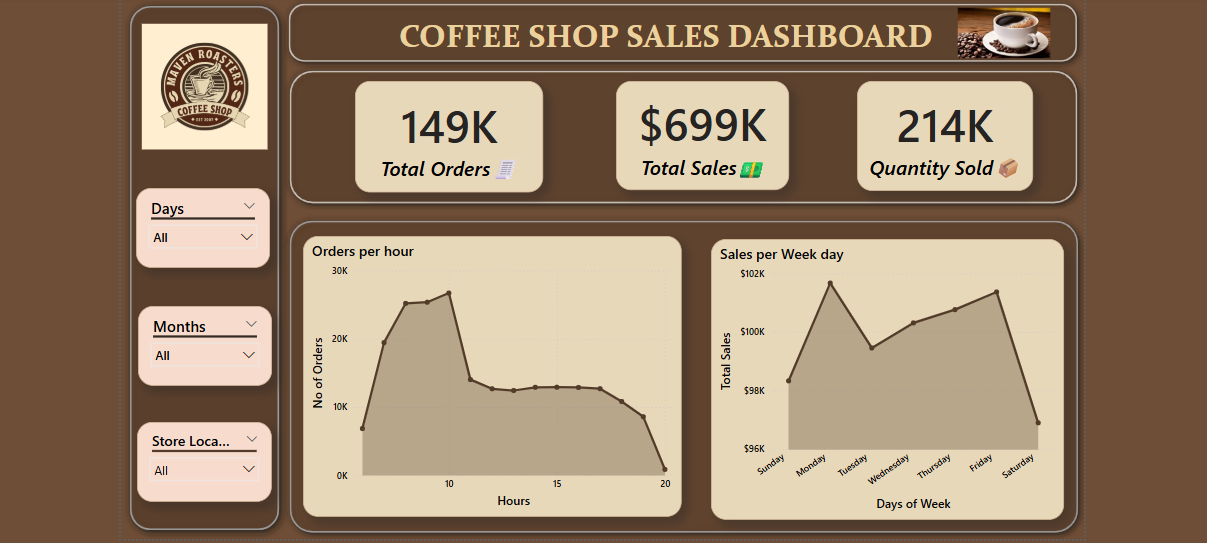

The dashboard page shown, as its layout file describes it:
{"tool":"powerbi","page":{"name":"Page 1","canvas":[1280,720],"ordinal":0},"visuals":[{"type":"shape","box":[0,0,222.4,720],"z":0},{"type":"shape","box":[214.7,288.5,1065.3,432.1],"z":1000},{"type":"shape","box":[214.7,88.9,1063.9,194.2],"z":2000},{"type":"group","id":"g1","title":"Group 1","box":[310.4,112.1,901.2,147.7],"z":3000},{"type":"card","fields":{"Values":["Sum(Transactions.transaction_qty)"]},"box":[977.8,112.1,233.8,146.2],"z":3000,"group":"g1"},{"type":"card","fields":{"Values":["Sum(Transactions.total_price)"]},"box":[657.8,112.2,229.7,144.7],"z":4000,"group":"g1"},{"type":"lineChart","title":"Sales per Week day","fields":{"Y":["Sum(Transactions.total_price)"],"Category":["Transactions.day_name"]},"box":[772.6,317.3,469.1,373.3],"z":4000},{"type":"lineChart","title":"Orders per hour","fields":{"Category":["Transactions.transaction_hour"],"Y":["Sum(Transactions.transaction_qty)"]},"box":[242.1,317.3,503.2,373.3],"z":5000},{"type":"shape","box":[213.3,0,1065,95],"z":6000},{"type":"slicer","fields":{"Values":["Transactions.store_location"]},"box":[24.2,554.8,179.4,106.3],"z":6002,"group":"g2"},{"type":"textbox","box":[252.2,20,960,52.2],"z":7000},{"type":"image","box":[1106.7,8.7,133.3,76.7],"z":8000},{"type":"group","id":"g2","title":"Group 1","box":[9.6,20.5,207.9,640],"z":8001},{"type":"slicer","fields":{"Values":["Transactions.month_name"]},"box":[25.6,400.7,178.1,106.3],"z":10000,"group":"g2"},{"type":"slicer","fields":{"Values":["Transactions.day_name"]},"box":[22.9,243.9,178.1,106.3],"z":11000,"group":"g2"},{"type":"image","box":[9.6,20.5,208.7,177.5],"z":12000,"group":"g2"},{"type":"card","fields":{"Values":["Count(Transactions.transaction_id)"]},"box":[310.4,112.2,250.3,147.6],"z":12000,"group":"g1"}]}

Visuals, with their boxes on the page's 1280x720 design canvas (x1, y1, x2, y2). These are canvas units, not pixel positions in the 1207x543 screenshot, which may show the page scaled, cropped or inside an application window:
shape: box(0, 0, 222, 720)
shape: box(215, 288, 1280, 721)
shape: box(215, 89, 1279, 283)
"Group 1" group: box(310, 112, 1212, 260)
card - Sum(Transactions.transaction_qty): box(978, 112, 1212, 258)
card - Sum(Transactions.total_price): box(658, 112, 888, 257)
"Sales per Week day" lineChart: box(773, 317, 1242, 691)
"Orders per hour" lineChart: box(242, 317, 745, 691)
shape: box(213, 0, 1278, 95)
slicer - Transactions.store_location: box(24, 555, 204, 661)
textbox: box(252, 20, 1212, 72)
image: box(1107, 9, 1240, 85)
"Group 1" group: box(10, 20, 218, 660)
slicer - Transactions.month_name: box(26, 401, 204, 507)
slicer - Transactions.day_name: box(23, 244, 201, 350)
image: box(10, 20, 218, 198)
card - Count(Transactions.transaction_id): box(310, 112, 561, 260)
